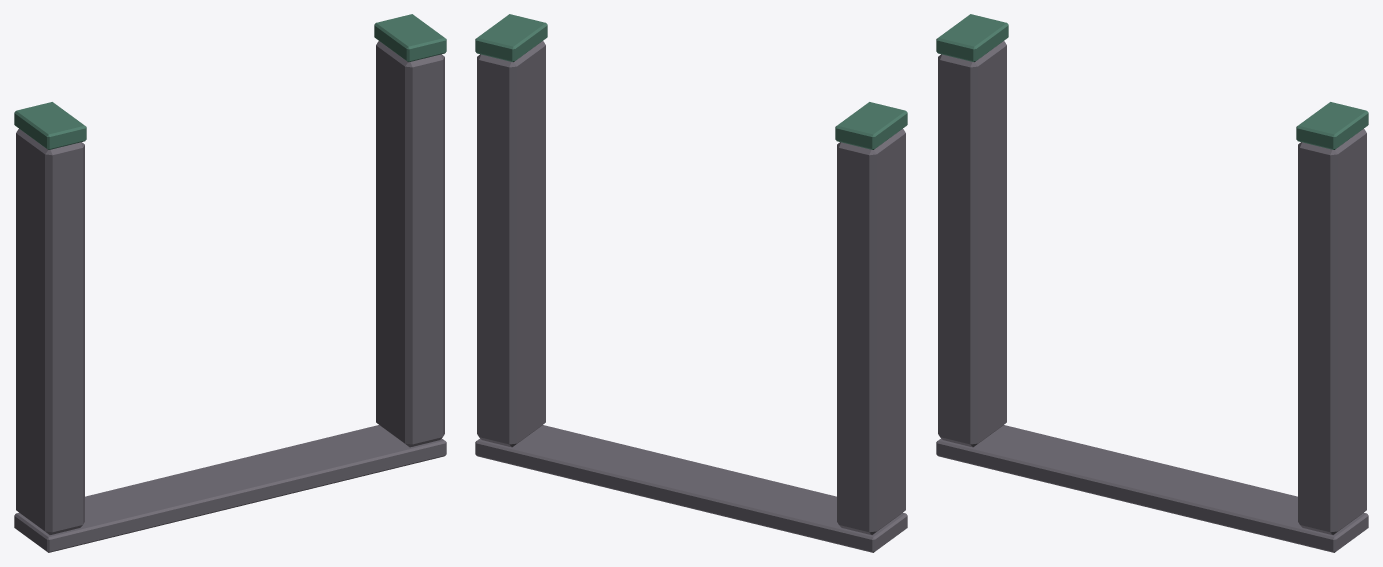
The model's file is Bld_Lab_FoldWall_4m.glb.
3 renders of one model, left to right at view 1: azimuth 30°, elevation 25°; view 2: azimuth 150°, elevation 25°; view 3: azimuth 330°, elevation 25°, orthographic.
Visible parts, largest first — view 1: Bld_Lab_FoldWall_4m; view 2: Bld_Lab_FoldWall_4m; view 3: Bld_Lab_FoldWall_4m.
Part boxes in pixels (<box>): Bld_Lab_FoldWall_4m: <box>14,14,446,552</box>; Bld_Lab_FoldWall_4m: <box>475,14,907,552</box>; Bld_Lab_FoldWall_4m: <box>936,14,1368,552</box>.
Size of what is drawn, in the model's own units: 4 by 4 by 0.6.
